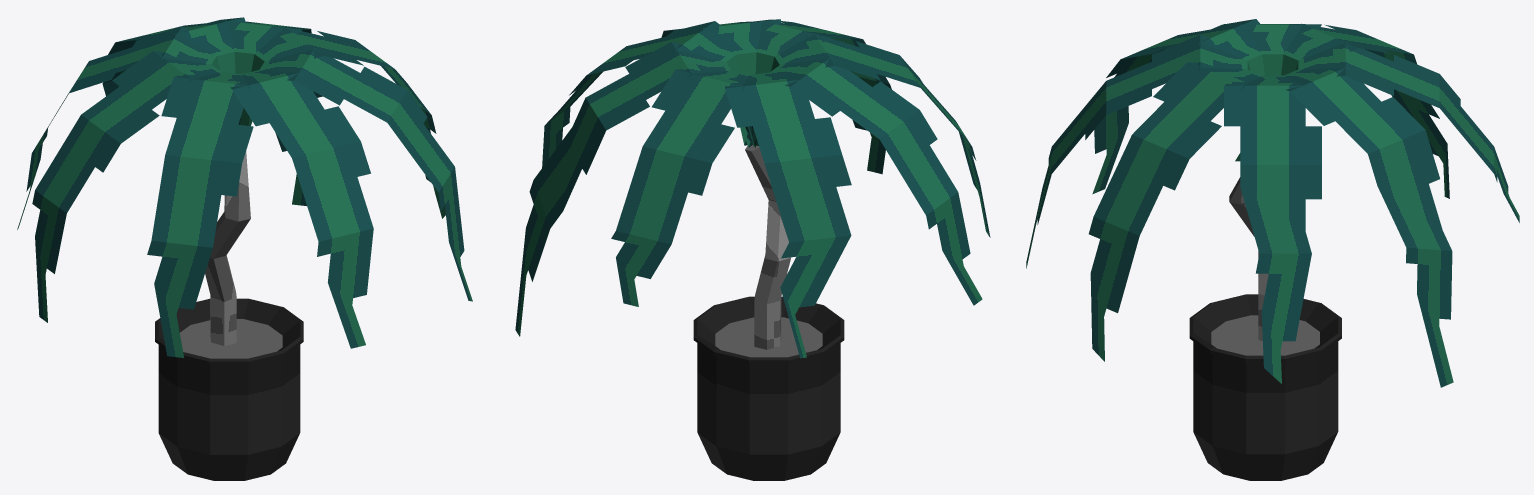
File: pot_plant.gltf
The picture shows the model from 3 angles, left to right: view 1: azimuth 30°, elevation 25°; view 2: azimuth 150°, elevation 25°; view 3: azimuth 270°, elevation 25°; orthographic projection. The views are drawn at different scales.
Visible parts, largest first — view 1: plane (×8), cylinder, stem; view 2: plane (×8), cylinder, stem; view 3: plane (×8), cylinder, stem.
Part boxes in pixels (left/top/right/bottom): plane (×8): left=17, top=17, right=472, bottom=357; cylinder: left=155, top=298, right=303, bottom=480; stem: left=205, top=151, right=250, bottom=345; plane (×8): left=515, top=19, right=990, bottom=358; cylinder: left=693, top=296, right=844, bottom=480; stem: left=745, top=145, right=791, bottom=349; plane (×8): left=1026, top=19, right=1519, bottom=387; cylinder: left=1189, top=294, right=1341, bottom=480; stem: left=1229, top=177, right=1268, bottom=340.
Size of the model in its own units: 0.2125 by 0.1937 by 0.2125.
1 material, 1 textured.
